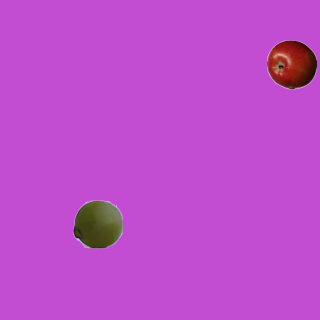Apple Braeburn: (266, 39, 316, 89)
Grape White 4: (72, 198, 122, 248)
